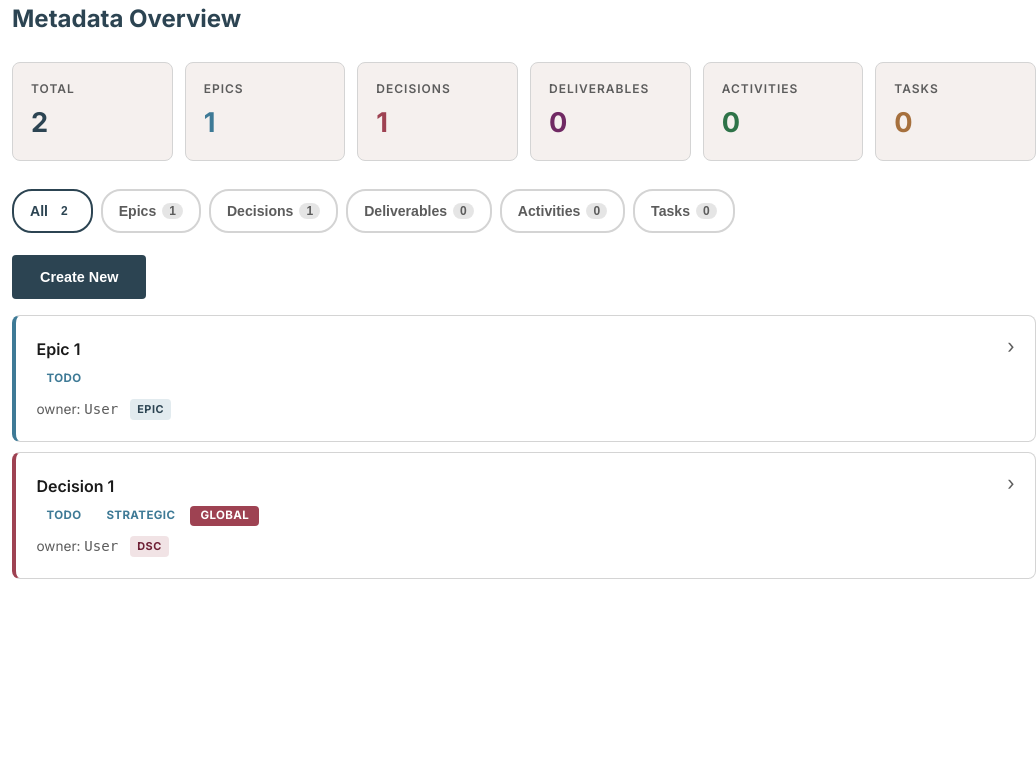
Test: OverviewPage Integration Tests › filters items when clicking Decision tab
The image size is (1036, 768).
Click the tab "Decisions 1". click: (274,211)
box: [209,189,338,233]
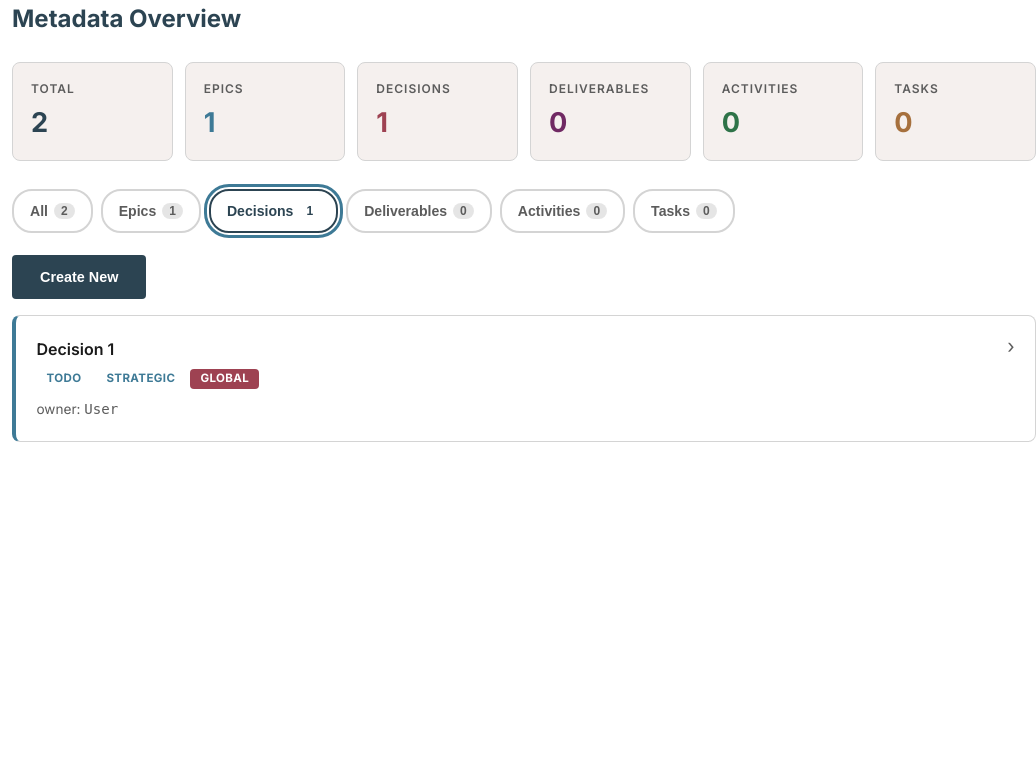
Expected: the text "Decision 1" is shown, [36,337,114,362]
Result: the button "Epic 1" is gone
